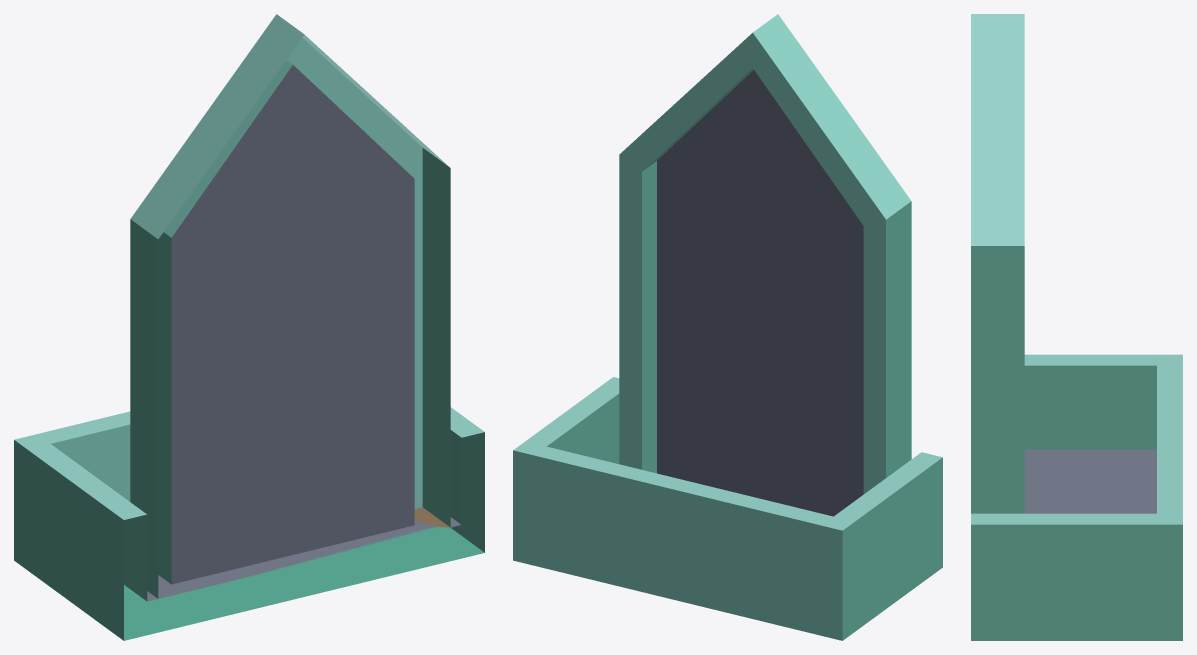
The model's file is squidgame_props_platform_decoration1_blue.fbx.
3 renders of one model, left to right at view 1: azimuth 30°, elevation 25°; view 2: azimuth 150°, elevation 25°; view 3: azimuth 270°, elevation 25°, orthographic. The views are drawn at different scales.
Visible parts, largest first — view 1: squidgame_props_platform_decoration1_blue; view 2: squidgame_props_platform_decoration1_blue; view 3: squidgame_props_platform_decoration1_blue.
Part boxes in pixels (box(x1,y1,x2,y2)): squidgame_props_platform_decoration1_blue: box(14, 14, 484, 640); squidgame_props_platform_decoration1_blue: box(513, 14, 942, 640); squidgame_props_platform_decoration1_blue: box(971, 14, 1182, 640).
Bounding box in the file's own units: 2 × 2.98 × 1.05.
